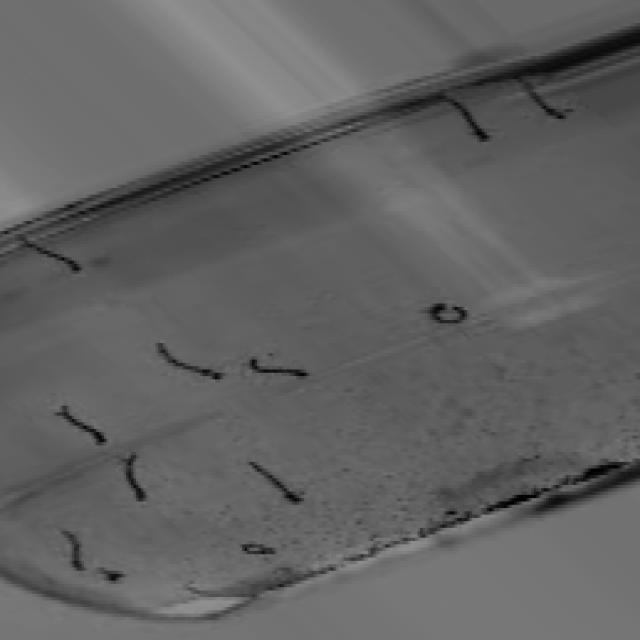larvas: (152, 340, 224, 393), (247, 454, 305, 512), (516, 75, 569, 130), (22, 234, 83, 278), (54, 403, 110, 450), (449, 96, 493, 147), (252, 357, 306, 381), (124, 453, 146, 503), (62, 528, 84, 570), (431, 299, 466, 323), (242, 543, 276, 556), (99, 568, 125, 585)
